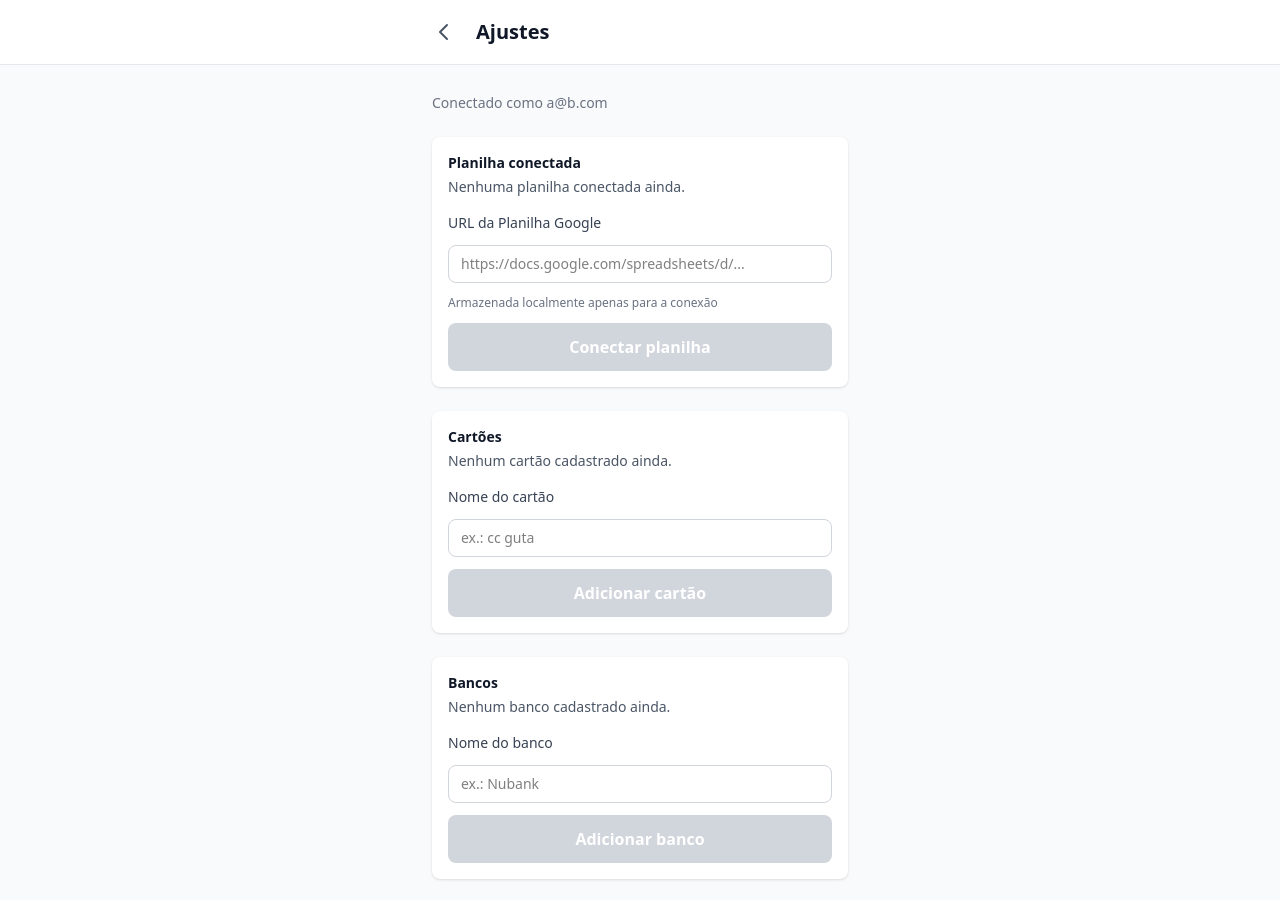
Test: Settings connected sheet › changes the connected sheet and remembers it
# When the user pastes a sheet URL and connects it
Type "https://docs.google.com/spreadsheets/d/spreadsheet-xyz/edit" into the field labelled "URL da Planilha Google" at (640, 264), box top-left (448, 245), bottom-right (832, 283)
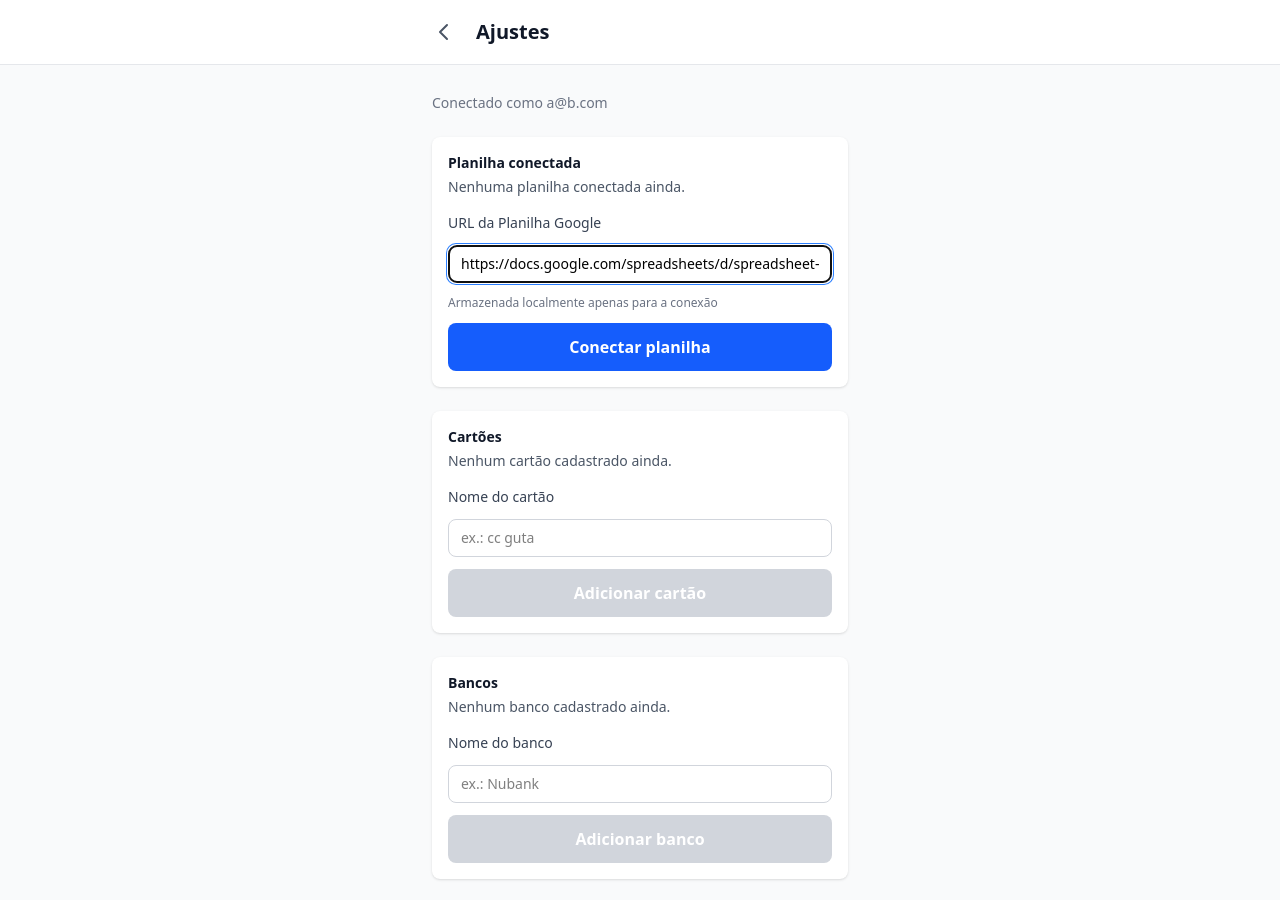
Click the button "Conectar planilha" at (640, 347), box top-left (448, 323), bottom-right (832, 371)
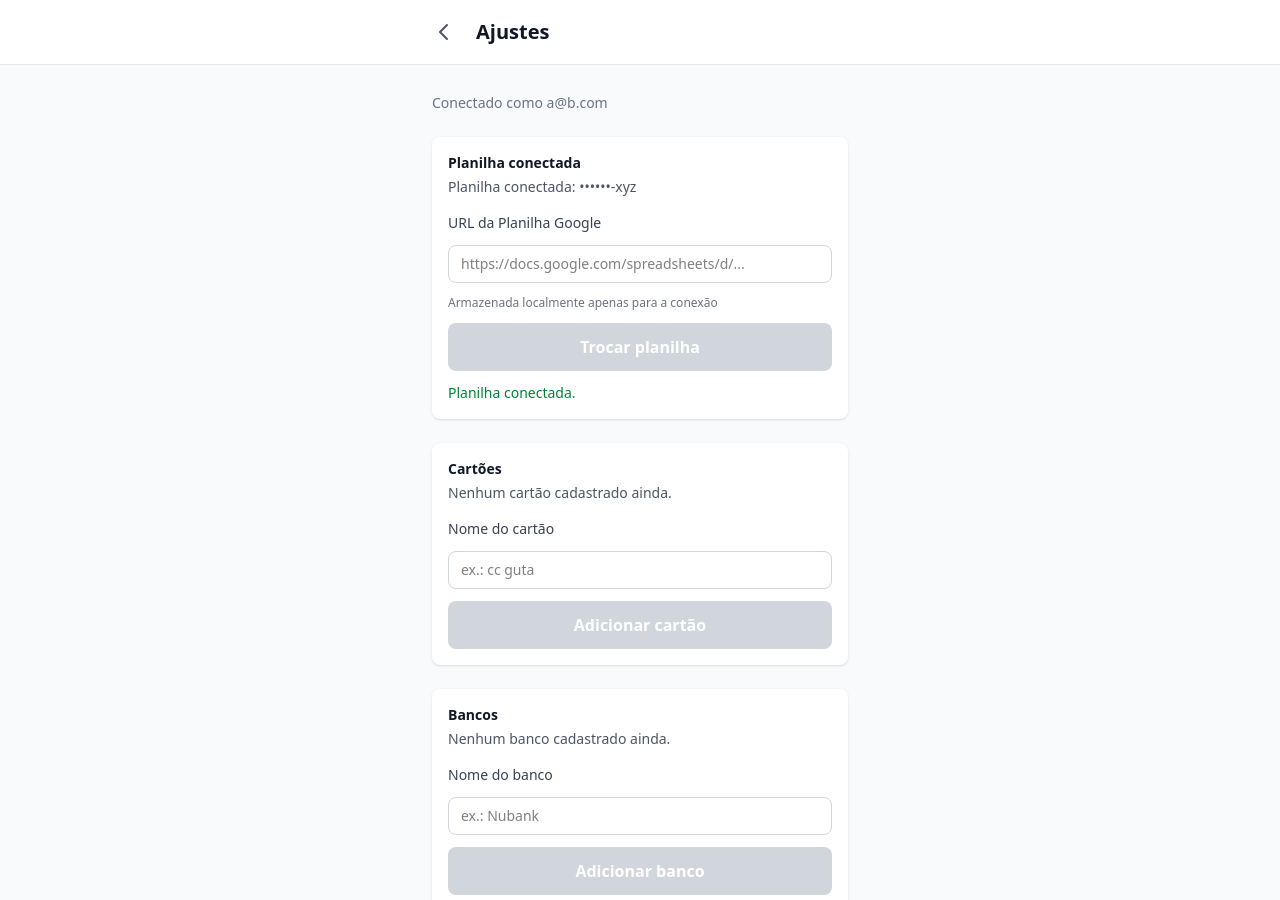
Expected: the text "Planilha conectada." is shown, top-left (448, 383), bottom-right (576, 402)
